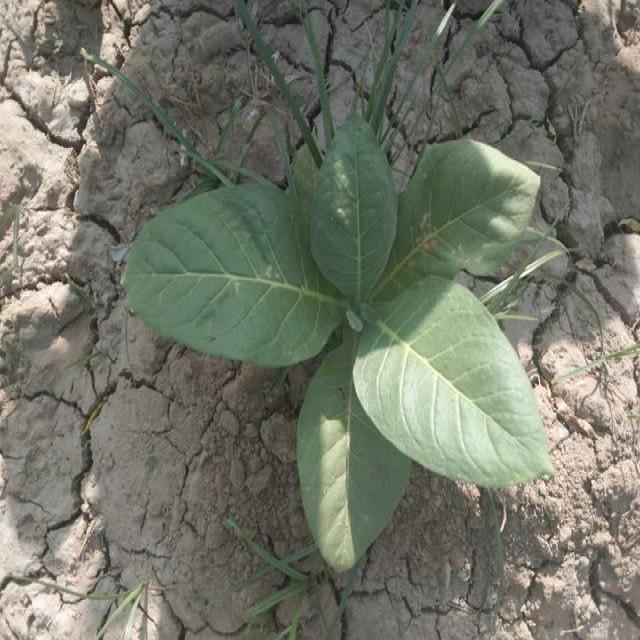crop: (127, 111, 556, 578)
